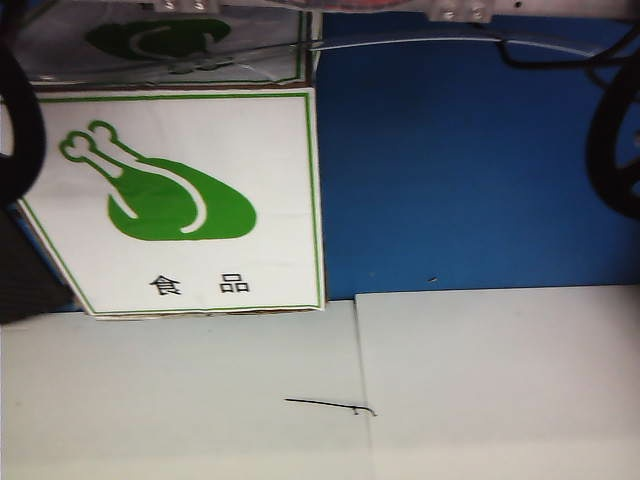Cube_food: (59, 116, 269, 307)
